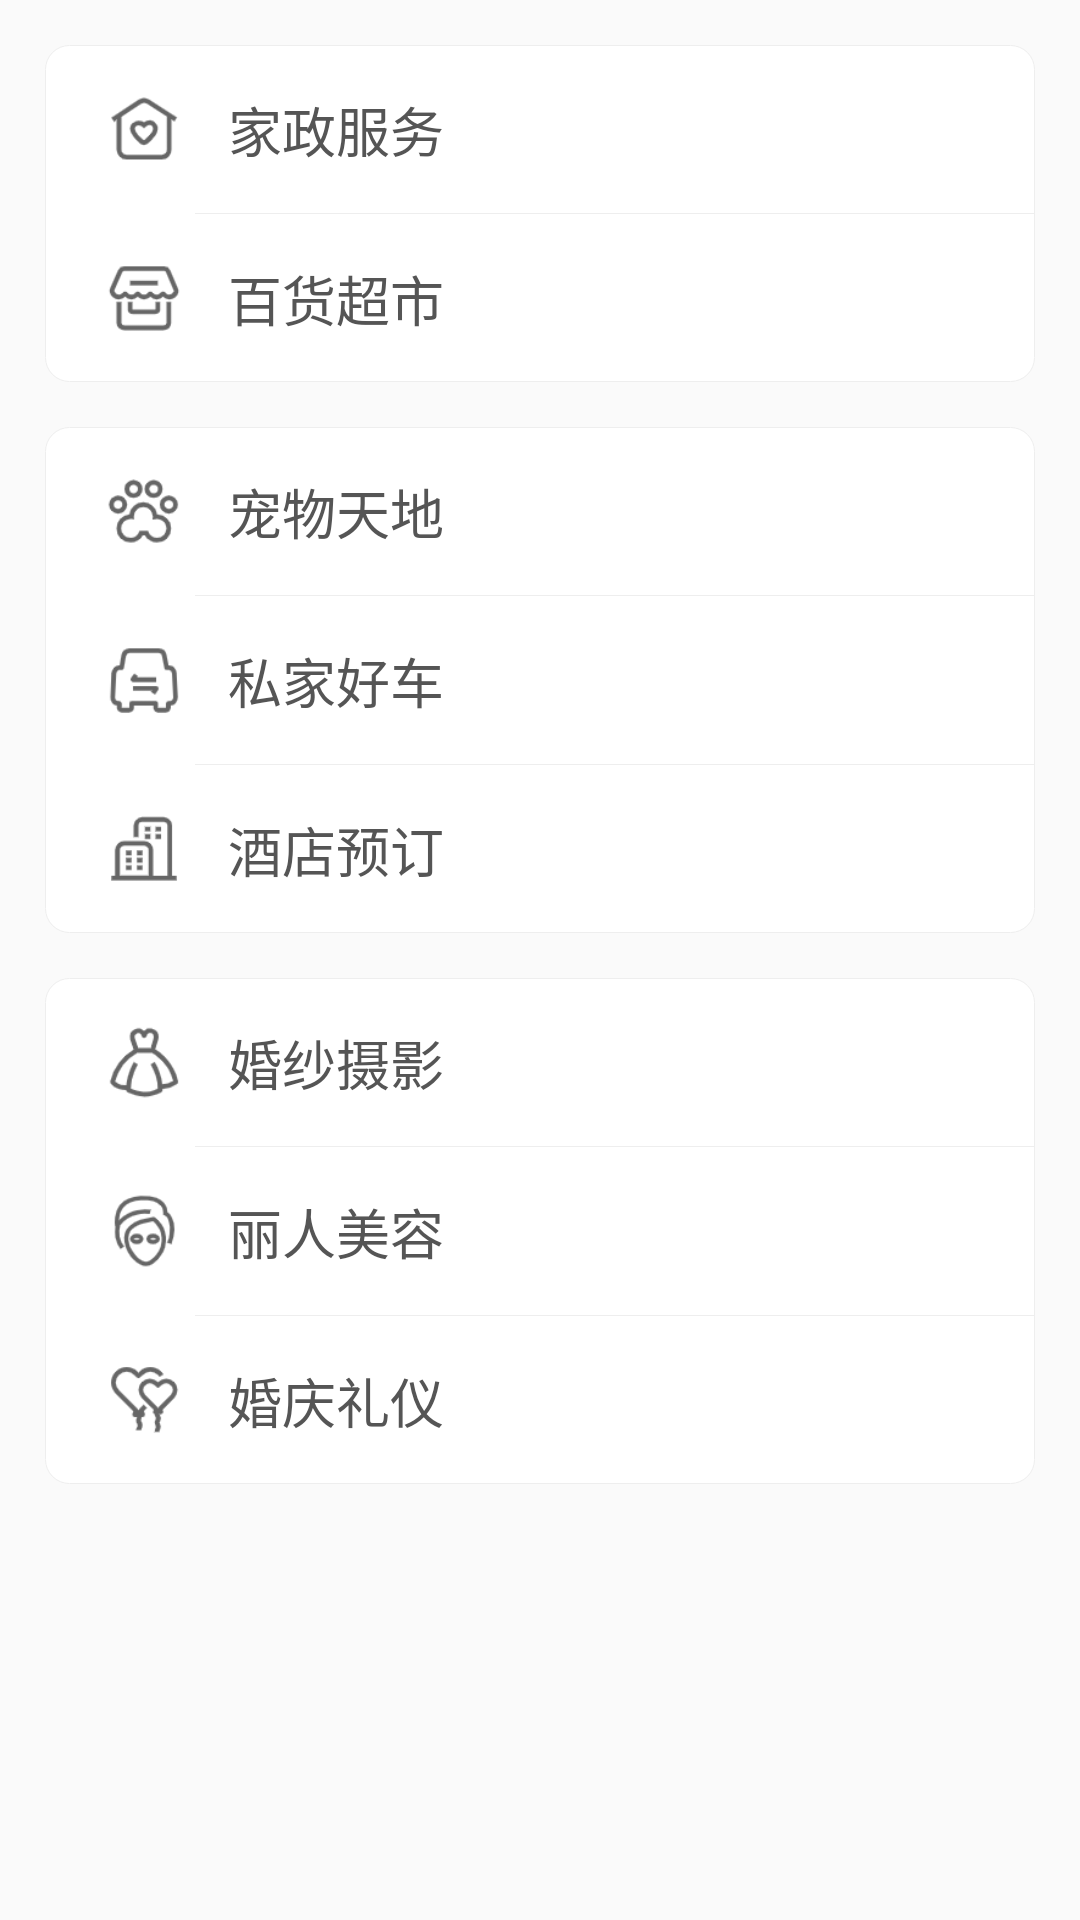

Icons on this 1080 × 1920 Android screen, each with its box as box=[x1, y1, x2, y2]:
hqly: box=[111, 1367, 178, 1433]
hssy: box=[110, 1028, 179, 1098]
jdyd: box=[111, 816, 177, 881]
